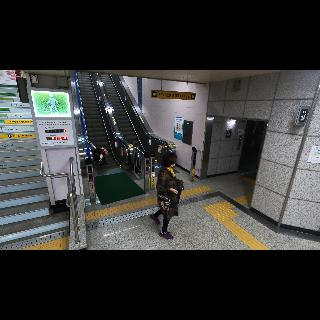anomaly: (84, 138, 110, 166)
normal: (152, 151, 180, 241)
